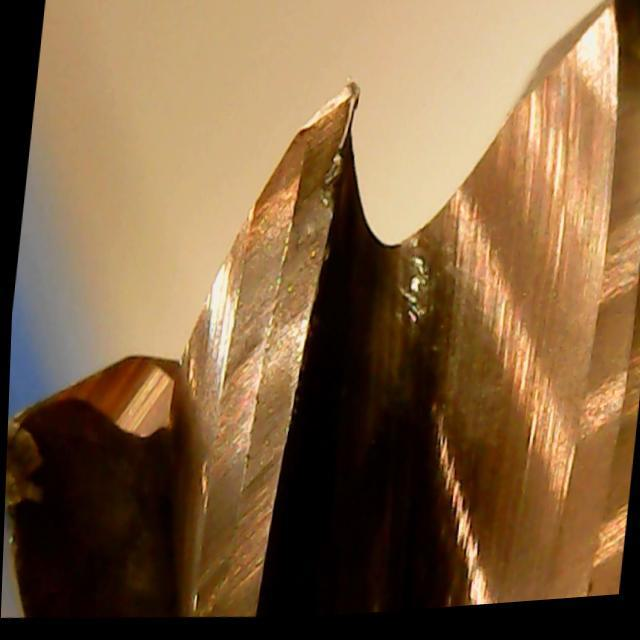Tool-wear-class-1: (205, 79, 365, 398)
